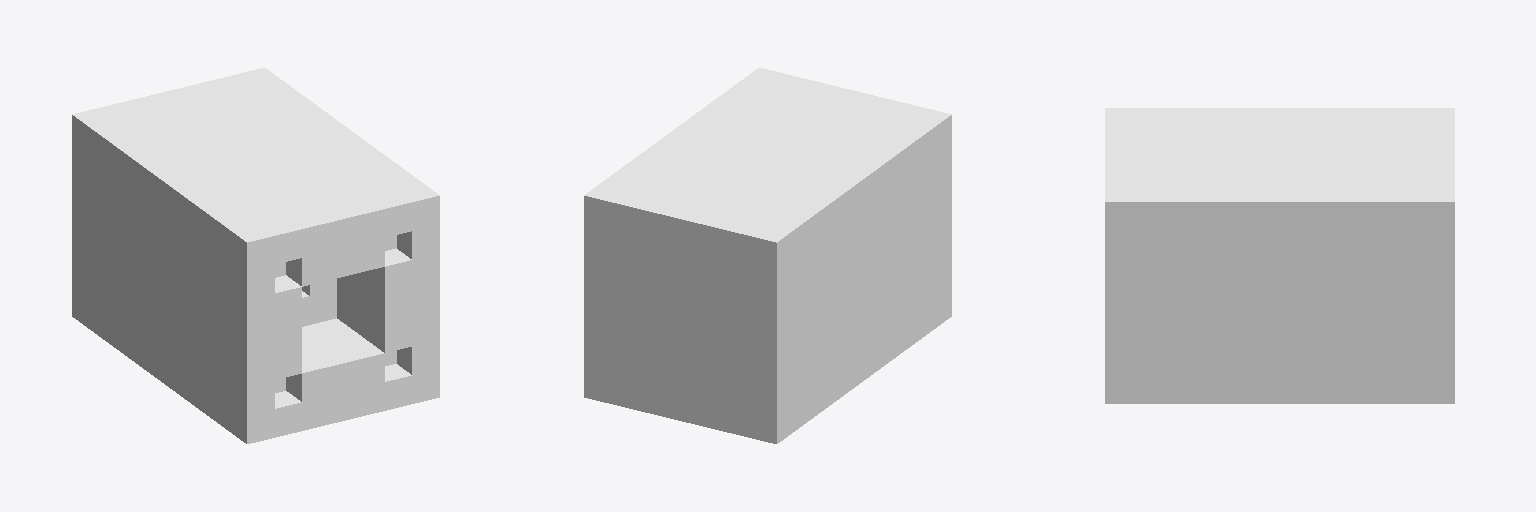
The model's file is turretCannon.obj.
3 renders of one model, left to right at view 1: azimuth 30°, elevation 25°; view 2: azimuth 150°, elevation 25°; view 3: azimuth 270°, elevation 25°, orthographic.
Parts seen in each view (by area): view 1: object 1; view 2: object 1; view 3: object 1.
Part boxes in pixels (x1,y1,x2,y2): object 1: (72,68,439,443); object 1: (584,68,951,443); object 1: (1105,108,1454,403).
Bounding box in the file's own units: 0.7 × 0.7 × 1.1.